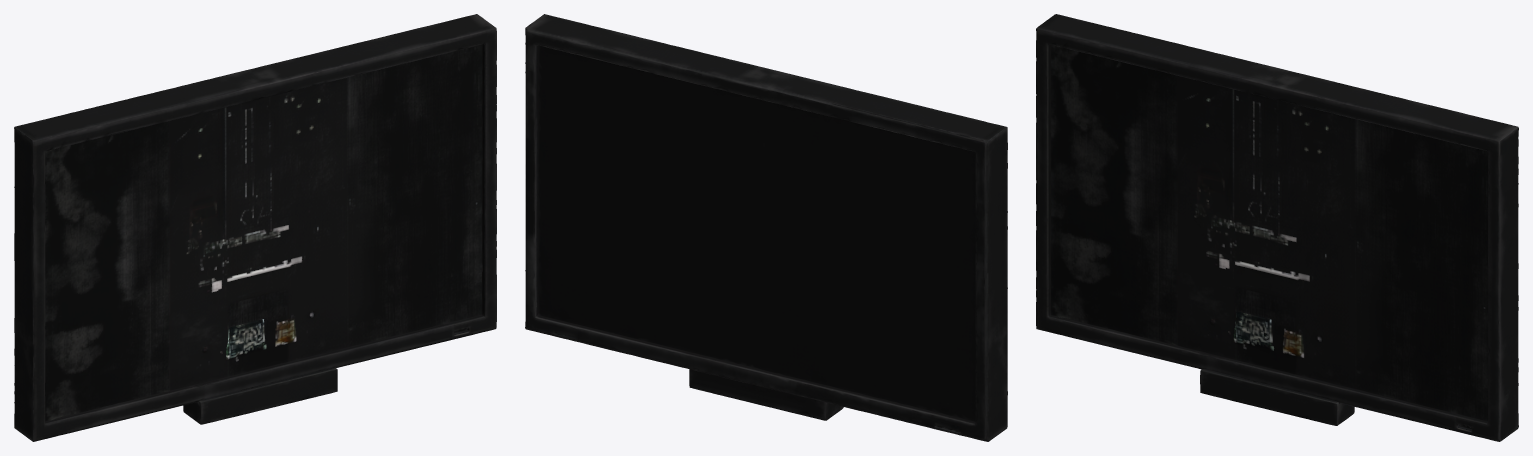
Rendered from holodeck_BigBlackFlatScreen.glb.
3 views of the same model, side by side, from view 1: azimuth 30°, elevation 25°; view 2: azimuth 150°, elevation 25°; view 3: azimuth 330°, elevation 25° (orthographic).
Visible parts, largest first — view 1: world; view 2: world; view 3: world.
Part boxes in pixels (x1,y1,x2,y2): world: [14, 14, 496, 441]; world: [525, 14, 1007, 441]; world: [1036, 14, 1518, 441].
Bounding box in the file's own units: 1 × 0.668 × 0.0853.
1 material, 1 textured.
